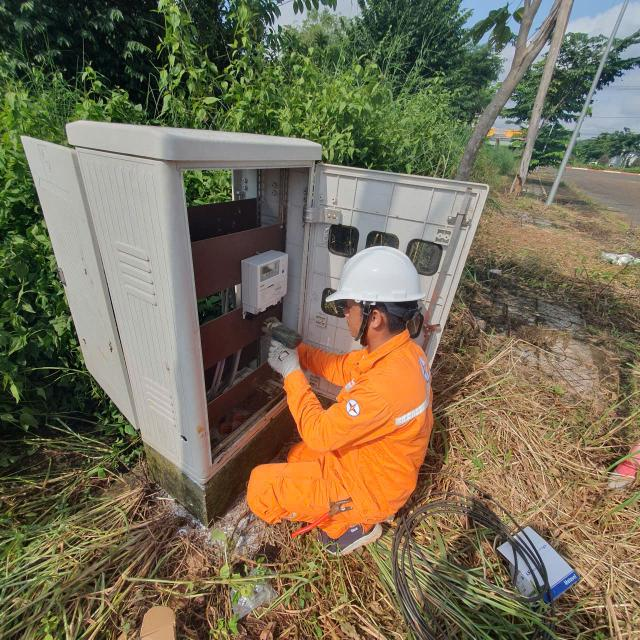gloves: (258, 335, 312, 380), (261, 318, 309, 353)
helmet: (331, 234, 436, 313)
shoes: (313, 511, 392, 573)
